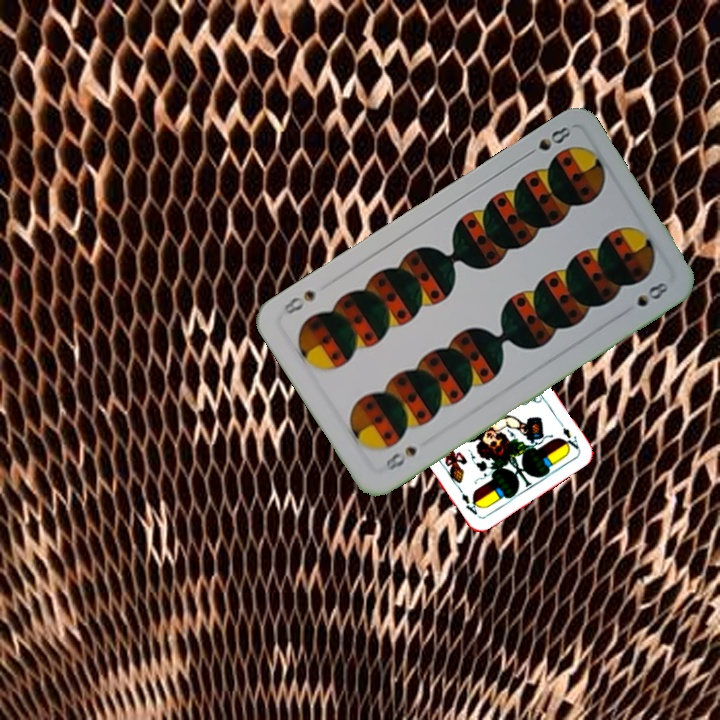EA: (553, 416, 581, 453)
S8: (520, 122, 574, 161), (378, 442, 419, 475)
